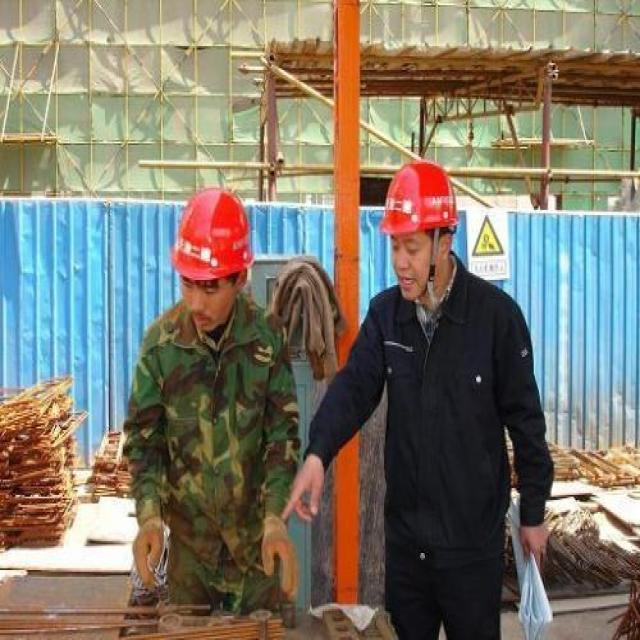hat: (170, 176, 259, 334), (379, 154, 456, 302)
